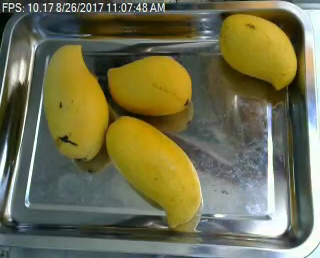Mango: (98, 108, 205, 234), (39, 42, 110, 163), (216, 9, 300, 89), (105, 53, 197, 120)
